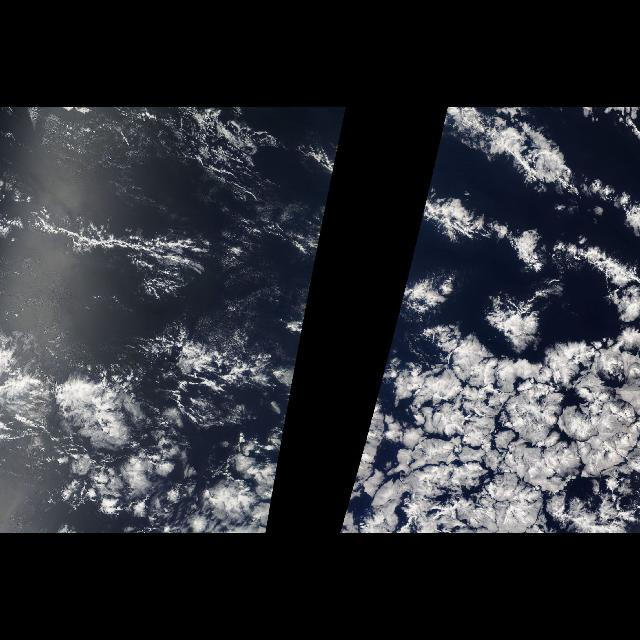Fish: (18, 205, 212, 293)
Flower: (338, 235, 640, 533), (263, 318, 305, 534)
